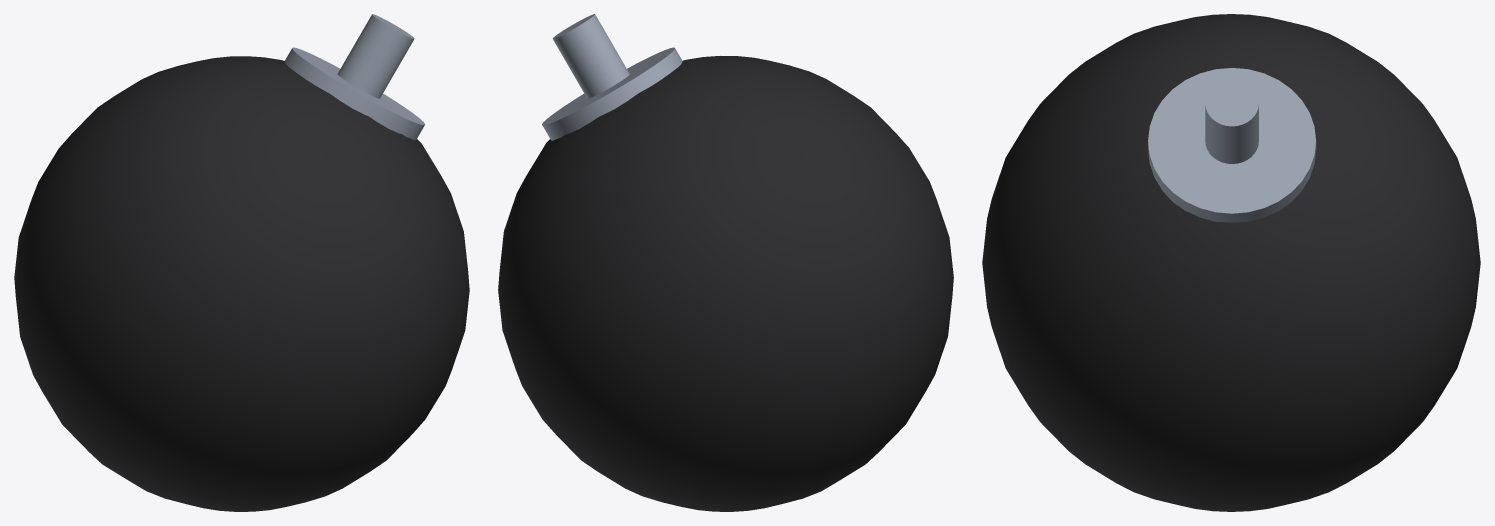
Rendered from Bomb.fbx.
The picture shows the model from 3 angles, left to right: view 1: azimuth 30°, elevation 25°; view 2: azimuth 150°, elevation 25°; view 3: azimuth 270°, elevation 25°; orthographic projection. The views are drawn at different scales.
Parts seen in each view (by area): view 1: Sphere, Cylinder; view 2: Sphere, Cylinder; view 3: Sphere, Cylinder.
Boxes of the visible parts, x1,y1,x2,y2 form: Sphere: (14, 56, 469, 511); Cylinder: (284, 14, 425, 140); Sphere: (498, 56, 953, 511); Cylinder: (542, 14, 682, 140); Sphere: (982, 14, 1480, 511); Cylinder: (1148, 68, 1316, 222).
Bounding box in the file's own units: 94.29 × 100 × 94.29.
